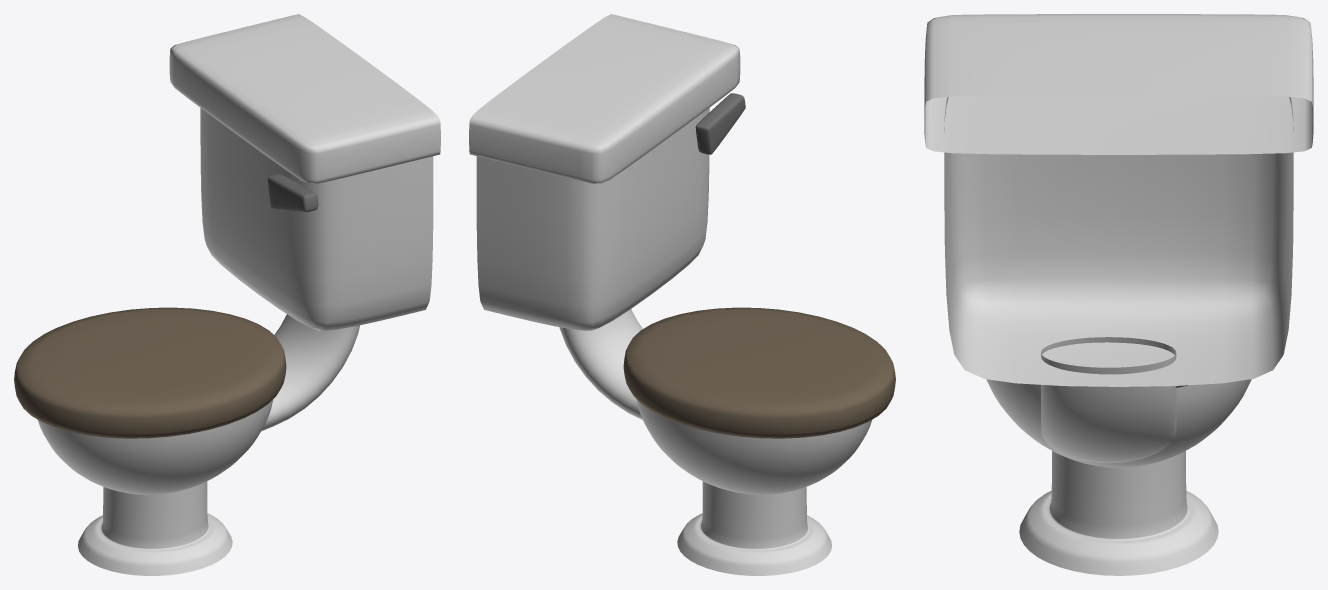
The model's file is toilet01.fbx.
3 renders of one model, left to right at view 1: azimuth 30°, elevation 25°; view 2: azimuth 150°, elevation 25°; view 3: azimuth 270°, elevation 25°, orthographic. The views are drawn at different scales.
Visible parts, largest first — view 1: toilet01; view 2: toilet01; view 3: toilet01.
Boxes of the visible parts, x1=… form: toilet01: x1=14, y1=14, x2=440, y2=575; toilet01: x1=469, y1=14, x2=895, y2=575; toilet01: x1=924, y1=14, x2=1313, y2=575.
Size of the model in its own units: 171 by 206 by 126.
